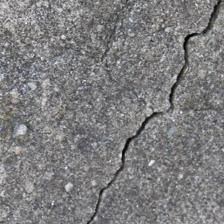Crack: (45, 4, 173, 214)
